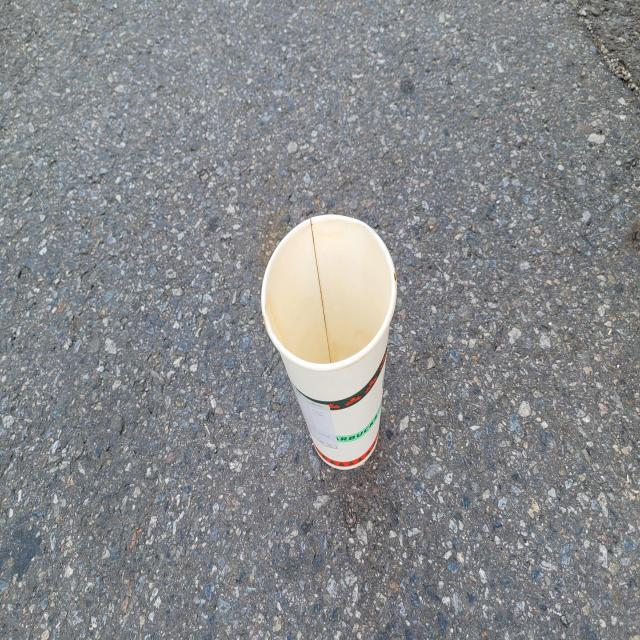paperpack: (261, 214, 397, 470)
